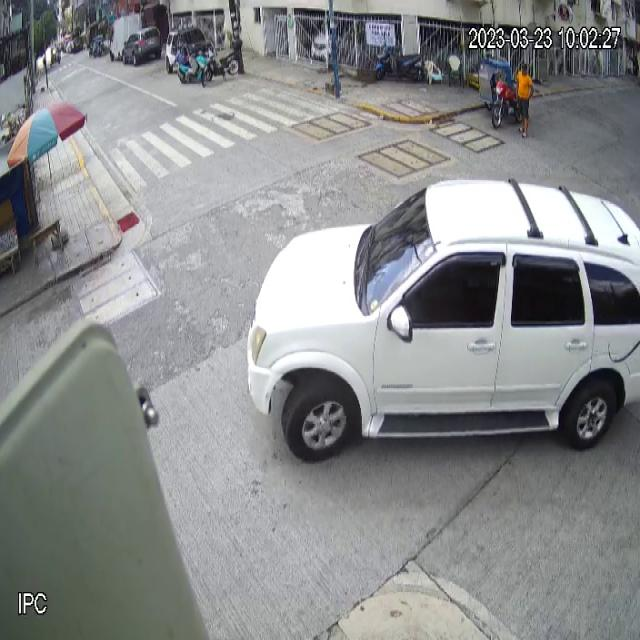Car: (246, 171, 640, 462)
